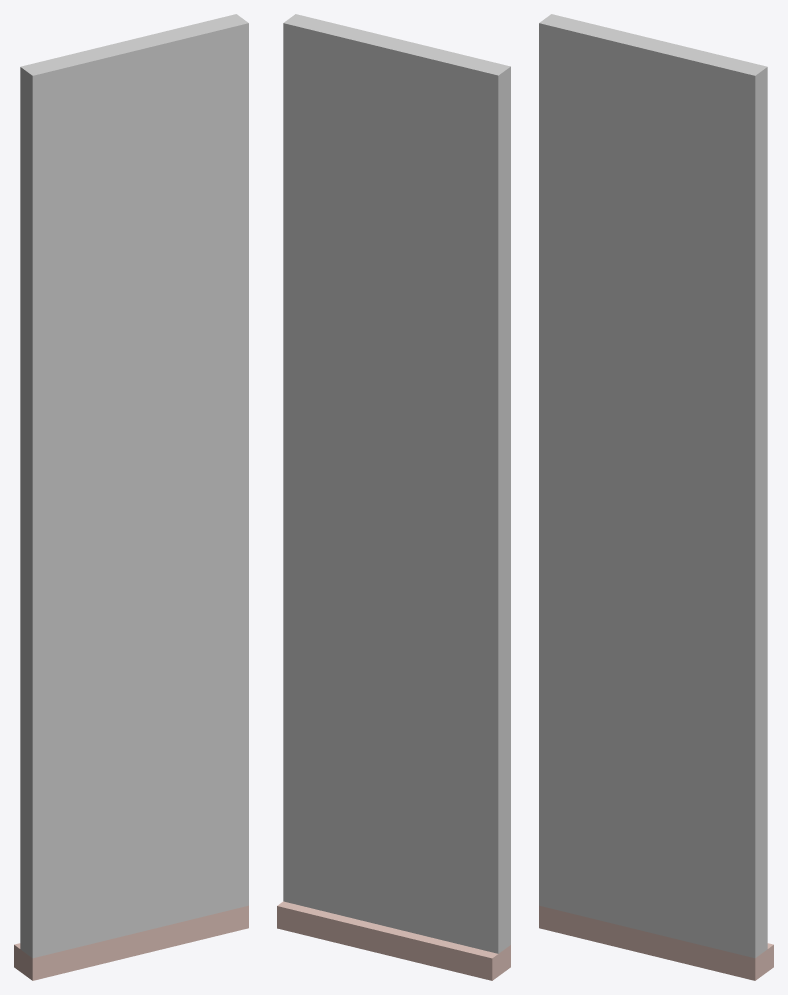
The model's file is Wall 3.fbx.
3 renders of one model, left to right at view 1: azimuth 30°, elevation 25°; view 2: azimuth 150°, elevation 25°; view 3: azimuth 330°, elevation 25°, orthographic.
Visible parts, largest first — view 1: Cube; view 2: Cube; view 3: Cube.
Boxes of the visible parts, x1=… form: Cube: x1=14, y1=14, x2=248, y2=980; Cube: x1=277, y1=14, x2=510, y2=980; Cube: x1=539, y1=14, x2=773, y2=980.
Bounding box in the file's own units: 100 × 400 × 15.
